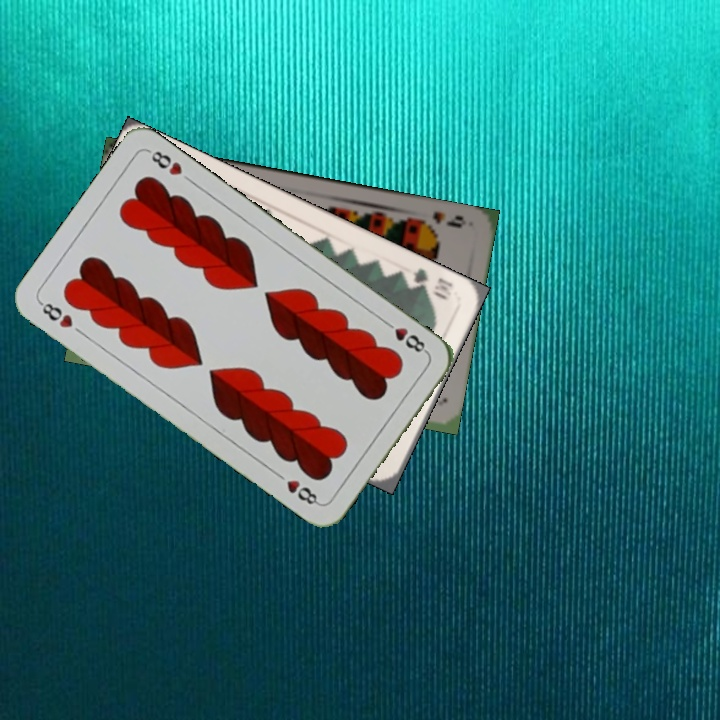G10: (400, 264, 456, 303)
H8: (379, 316, 430, 356), (35, 298, 76, 331)
S9: (411, 207, 466, 233)
